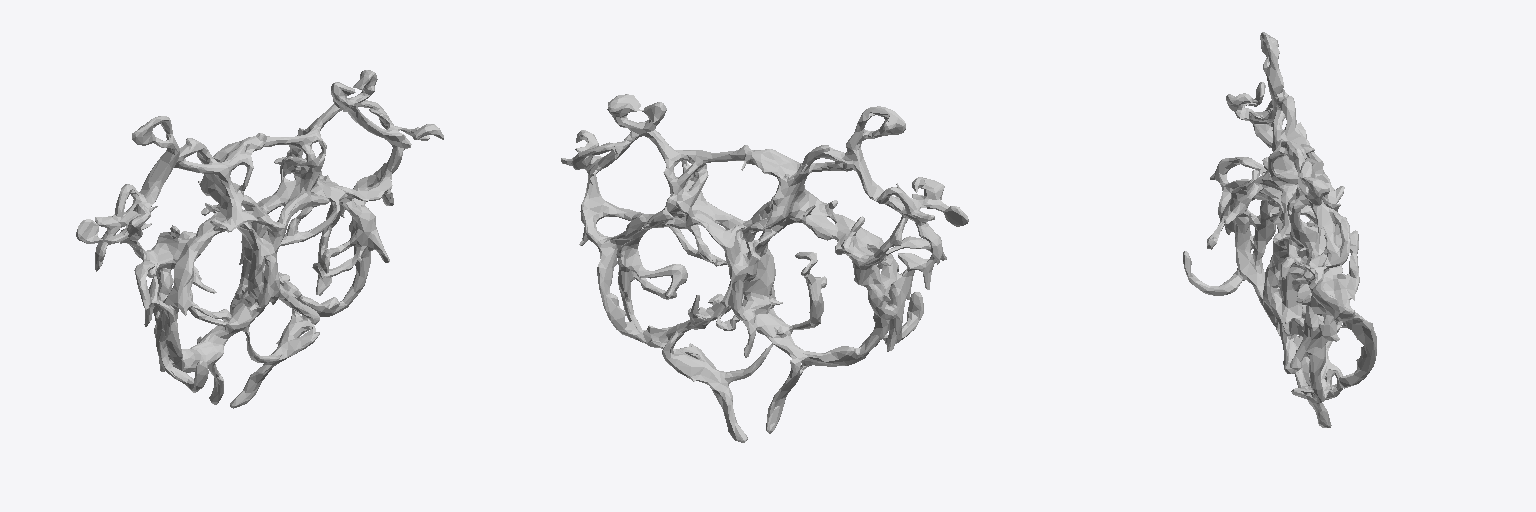
File: b38ee440ff70_a_sprawling_dark_re.obj
3 renders of one model, left to right at view 1: azimuth 30°, elevation 25°; view 2: azimuth 150°, elevation 25°; view 3: azimuth 270°, elevation 25°, orthographic.
Parts seen in each view (by area): view 1: mesh; view 2: mesh; view 3: mesh.
Part boxes in pixels (left/top/right/bottom): mesh: left=76, top=70, right=443, bottom=408; mesh: left=561, top=94, right=968, bottom=442; mesh: left=1183, top=32, right=1376, bottom=427.
Size of the model in its own units: 0.9988 by 0.8534 by 0.4409.